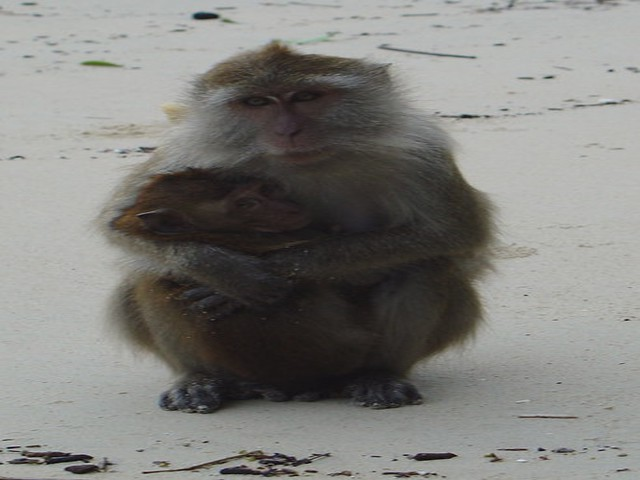Monkey: (97, 35, 499, 414)
